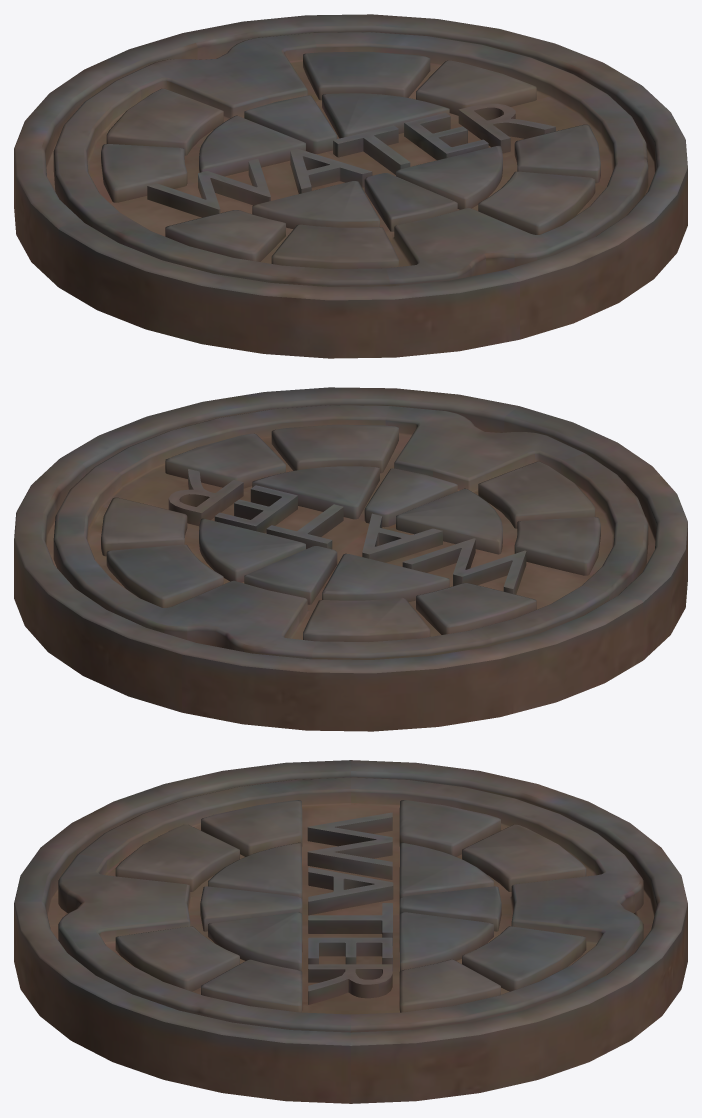
The model's file is water_manhole_cover.glb.
The picture shows the model from 3 angles, top to bottom: view 1: azimuth 30°, elevation 25°; view 2: azimuth 150°, elevation 25°; view 3: azimuth 270°, elevation 25°; orthographic projection.
Parts seen in each view (by area): view 1: water_manhole_cover, water_manhole_cover_frame; view 2: water_manhole_cover, water_manhole_cover_frame; view 3: water_manhole_cover, water_manhole_cover_frame.
Boxes of the visible parts, left/top/right/bottom form: water_manhole_cover: left=53, top=32, right=648, bottom=286; water_manhole_cover_frame: left=14, top=14, right=687, bottom=358; water_manhole_cover: left=53, top=405, right=648, bottom=659; water_manhole_cover_frame: left=14, top=387, right=687, bottom=731; water_manhole_cover: left=58, top=777, right=643, bottom=1032; water_manhole_cover_frame: left=14, top=760, right=687, bottom=1103.
Size of the model in its own units: 0.6908 by 0.0676 by 0.6908.
1 material, 1 textured.
